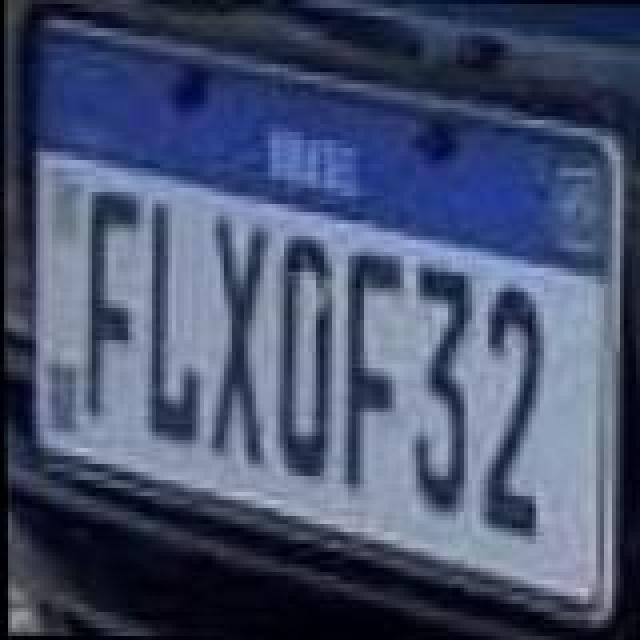2: (472, 284, 548, 532)
3: (406, 264, 478, 516)
D: (268, 232, 340, 480)
F: (336, 246, 408, 490), (80, 190, 144, 426)
L: (140, 204, 204, 448)
X: (202, 214, 270, 470)
